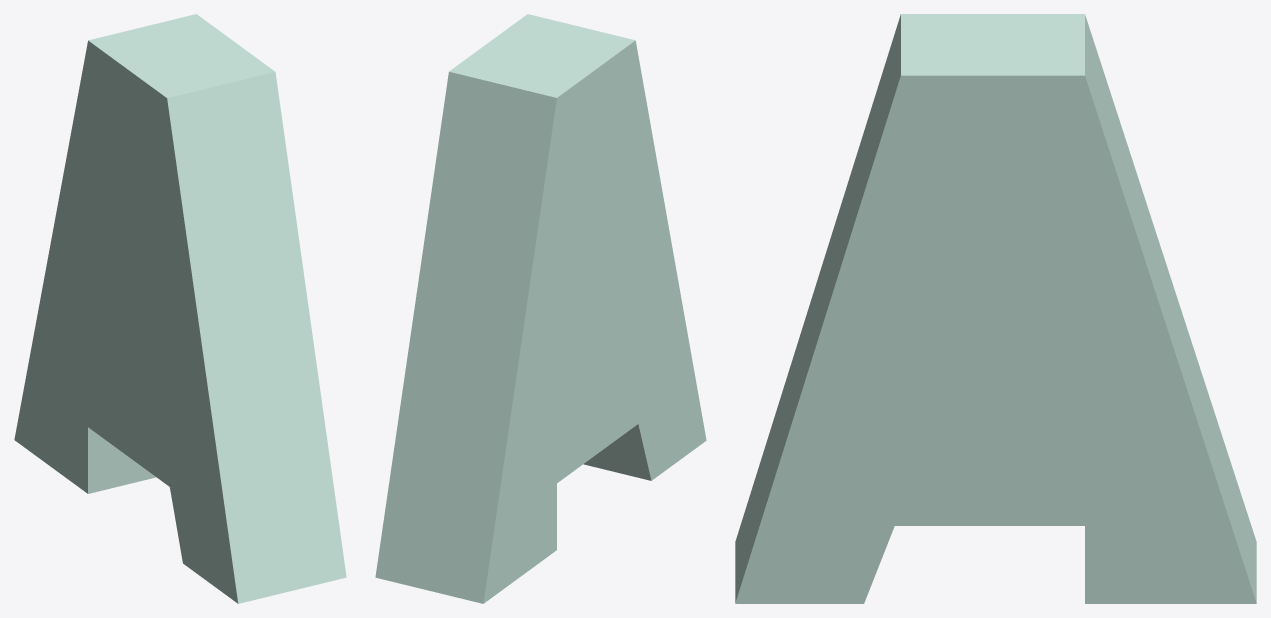
The picture shows the model from 3 angles, left to right: view 1: azimuth 30°, elevation 25°; view 2: azimuth 150°, elevation 25°; view 3: azimuth 270°, elevation 25°; orthographic projection. The views are drawn at different scales.
Parts seen in each view (by area): view 1: Renderer Node; view 2: Renderer Node; view 3: Renderer Node.
Part boxes in pixels (bbox=[...]): Renderer Node: bbox=[14, 14, 346, 603]; Renderer Node: bbox=[375, 14, 706, 603]; Renderer Node: bbox=[735, 14, 1256, 603].
Size of the model in its own units: 0.1875 by 0.75 by 0.6711.
